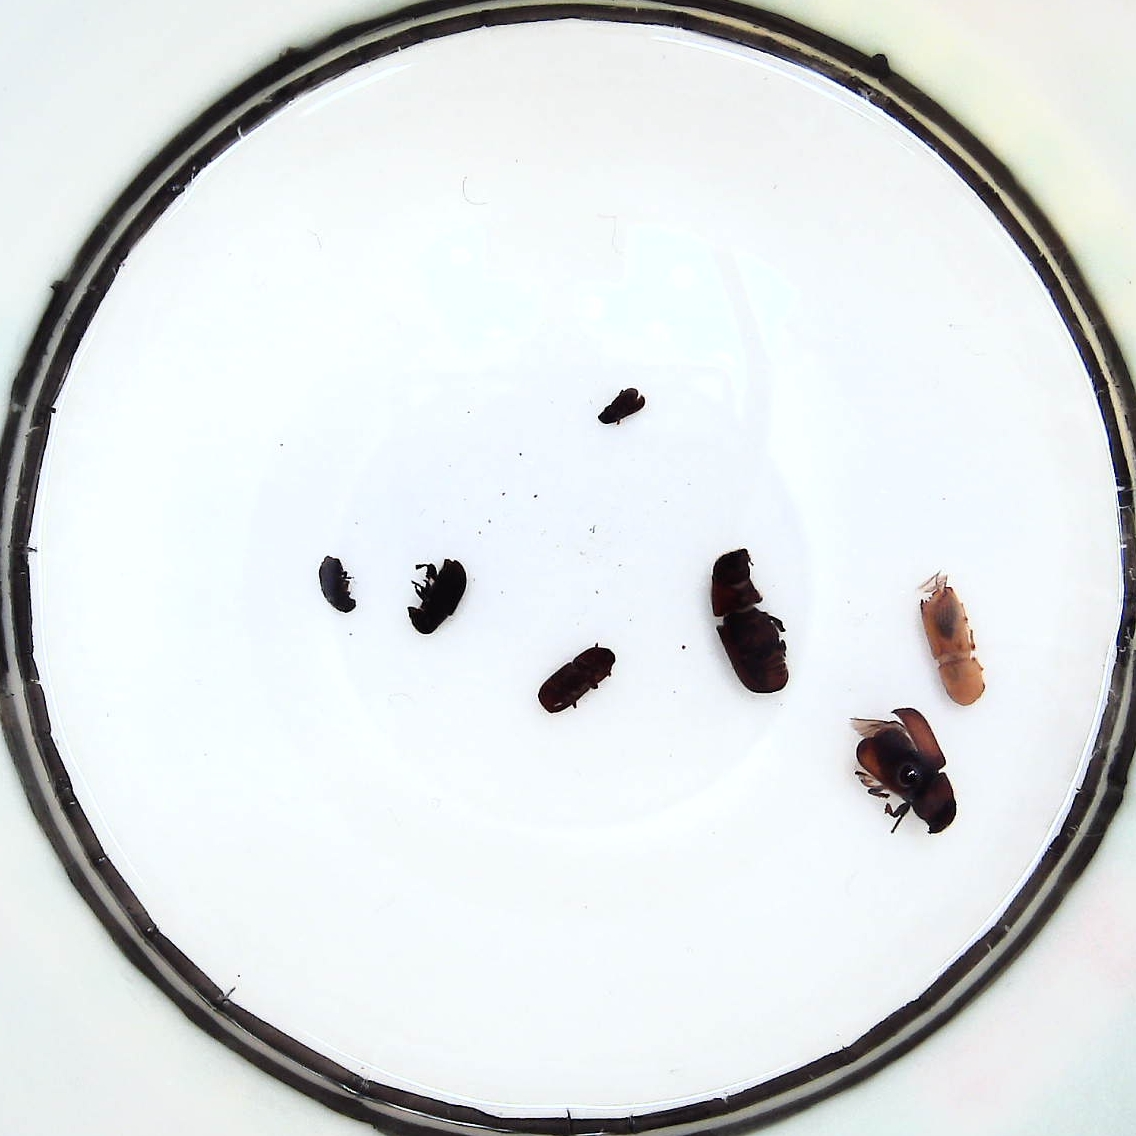Boerner: (920, 583, 986, 707)
Leconte: (855, 708, 957, 834), (709, 549, 789, 693)
acuminatus: (320, 557, 356, 612)
armandi: (407, 559, 466, 634)
coleoptera: (599, 386, 645, 424)
linnaeus: (538, 643, 615, 712)
